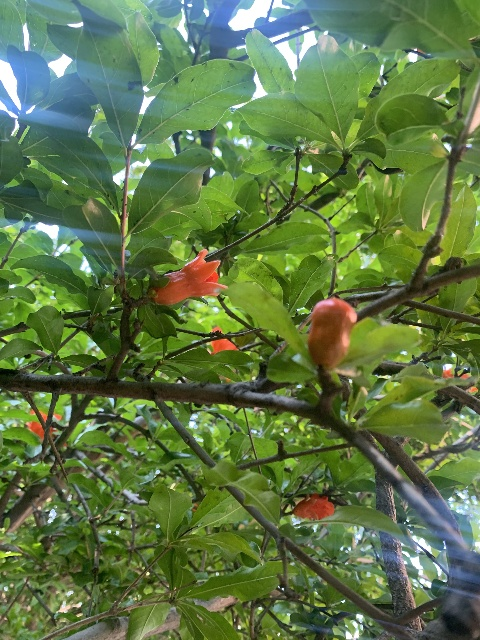bud: (306, 297, 356, 368)
flower: (150, 248, 227, 306), (26, 408, 63, 443), (293, 492, 334, 520), (442, 368, 477, 393), (209, 326, 237, 353)
